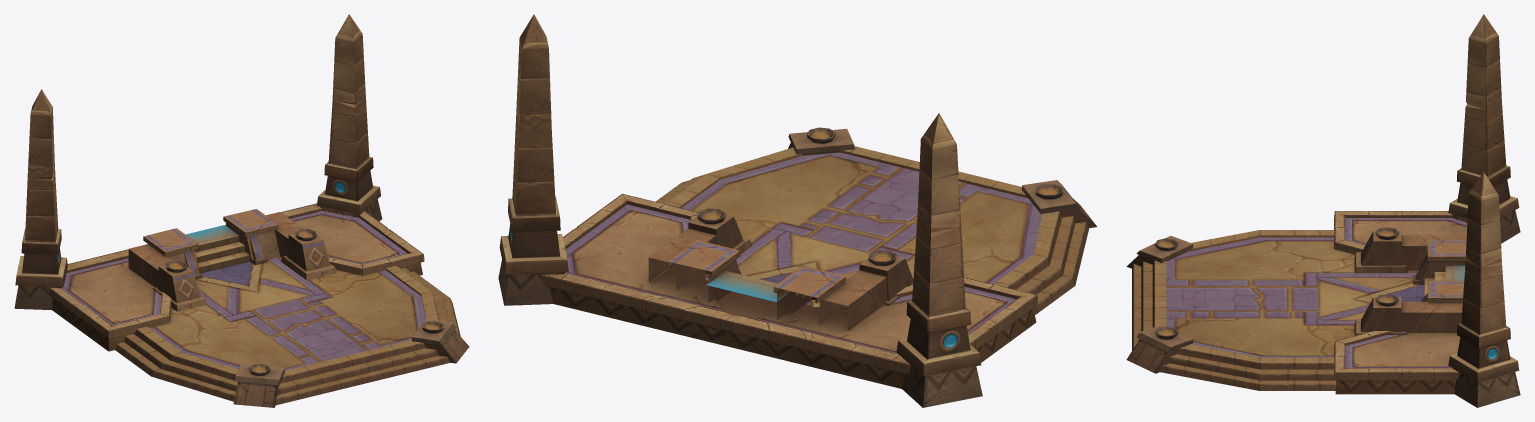
Rendered from Area_03_2.FBX.
3 views of the same model, side by side, from view 1: azimuth 30°, elevation 25°; view 2: azimuth 150°, elevation 25°; view 3: azimuth 270°, elevation 25° (orthographic). The views are drawn at different scales.
Visible parts, largest first — view 1: Area_03_2; view 2: Area_03_2; view 3: Area_03_2.
Part boxes in pixels (<box>): Area_03_2: <box>14,14,469,407</box>; Area_03_2: <box>498,14,1096,407</box>; Area_03_2: <box>1126,14,1520,407</box>.
Size of the model in its own units: 2688 by 1468 by 2374.
